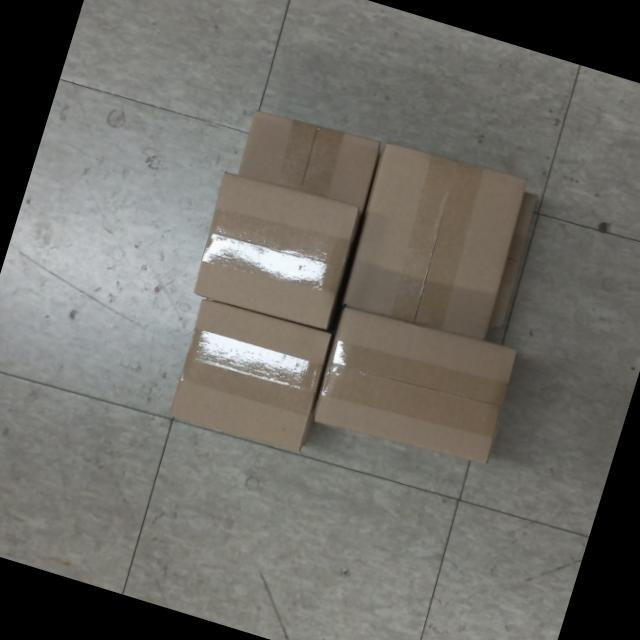box: (326, 125, 544, 358), (300, 290, 532, 480), (183, 162, 370, 342), (158, 288, 342, 464)
